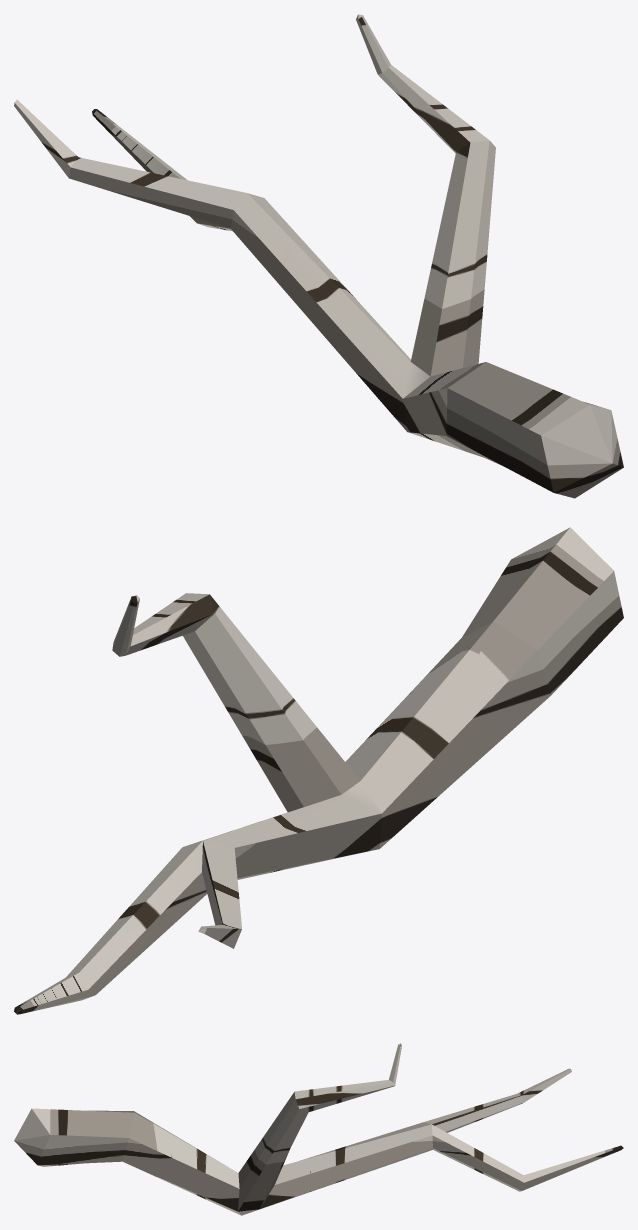
File: synty-tree-swamp-branch-02.gltf
3 renders of one model, top to bottom at view 1: azimuth 30°, elevation 25°; view 2: azimuth 150°, elevation 25°; view 3: azimuth 270°, elevation 25°, orthographic. The views are drawn at different scales.
Visible parts, largest first — view 1: SM_Tree_Swamp_Branch_02; view 2: SM_Tree_Swamp_Branch_02; view 3: SM_Tree_Swamp_Branch_02.
Part boxes in pixels (box(x1,y1,x2,y2)): SM_Tree_Swamp_Branch_02: box(14, 14, 623, 498); SM_Tree_Swamp_Branch_02: box(14, 527, 623, 1014); SM_Tree_Swamp_Branch_02: box(14, 1043, 623, 1215).
Size of the model in its own units: 1.47 by 1.72 by 5.05.
Materials: 1 (1 with a texture image).
